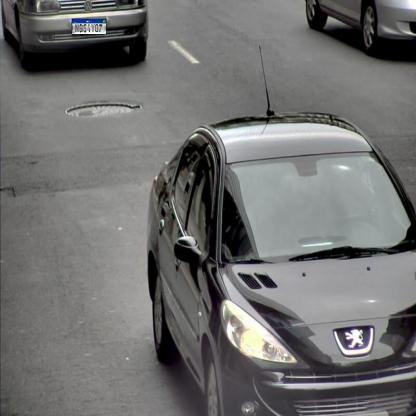PlacaM: (72, 18, 106, 34)
